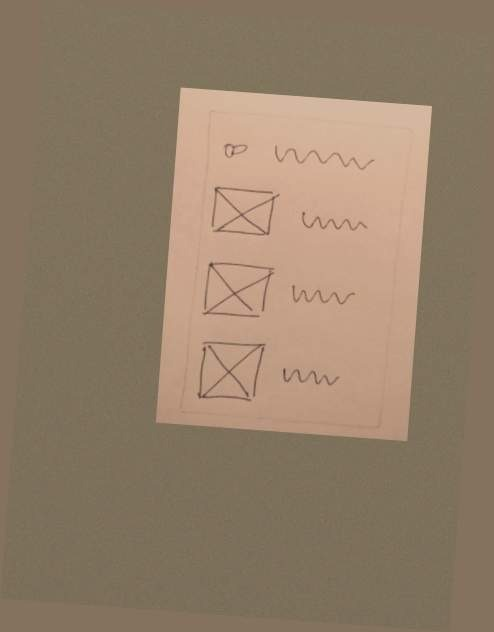image: (192, 338, 270, 409), (198, 258, 278, 325), (207, 179, 282, 244)
switch: (218, 135, 252, 164)
text: (267, 139, 380, 180), (293, 203, 372, 238), (286, 280, 359, 315), (279, 361, 343, 394)
